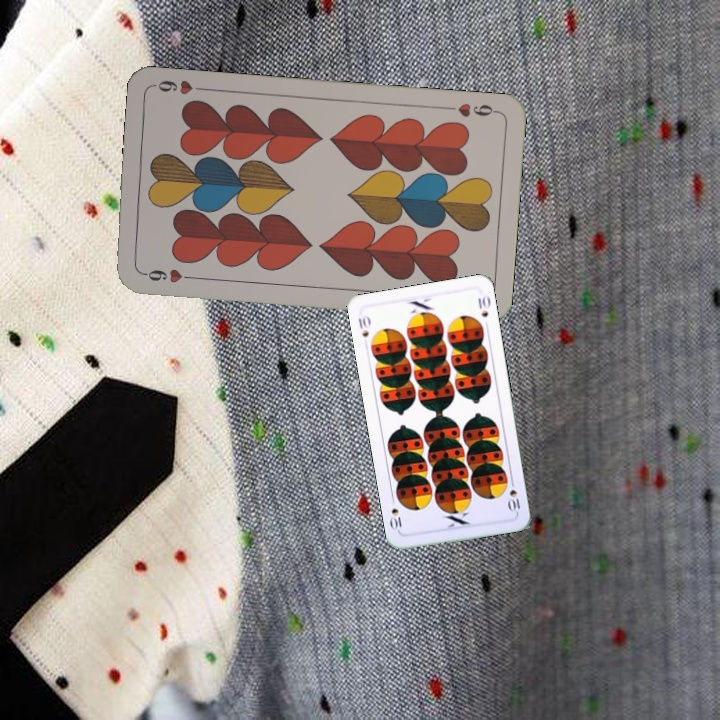H9: (138, 264, 197, 286), (441, 99, 501, 120)
S10: (505, 475, 523, 515), (354, 312, 373, 340)
